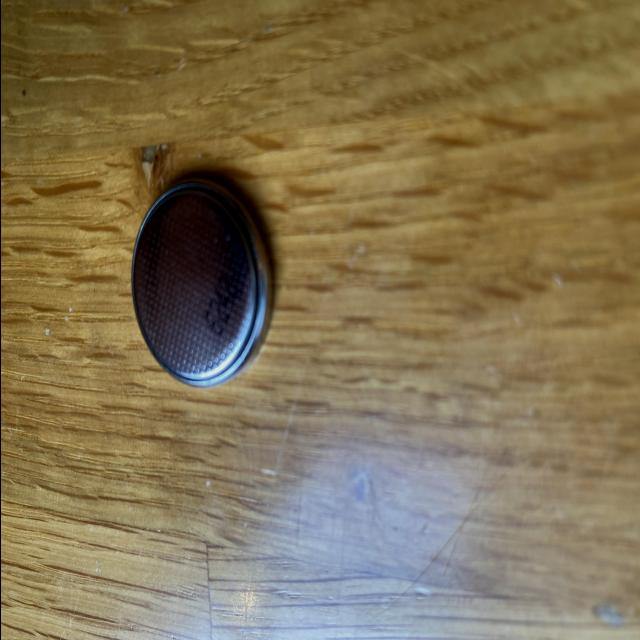COIN: (130, 175, 273, 388)
